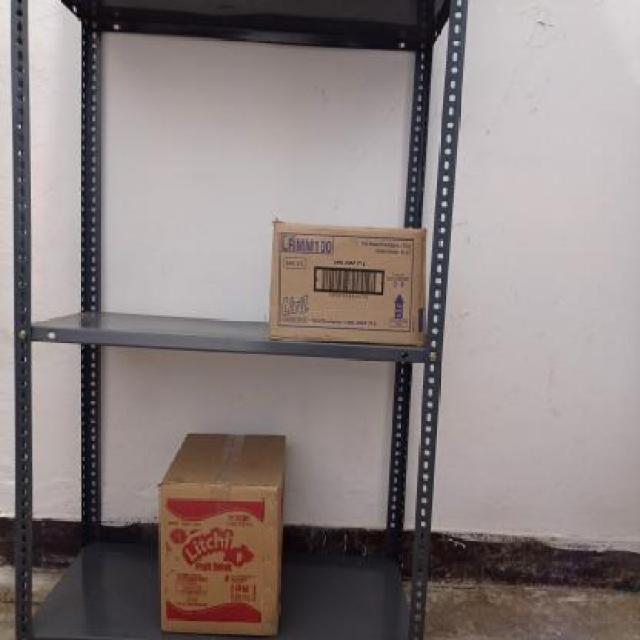box: (269, 221, 426, 345), (157, 483, 283, 632)
